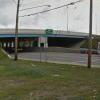Bridge: (4, 21, 99, 54)
